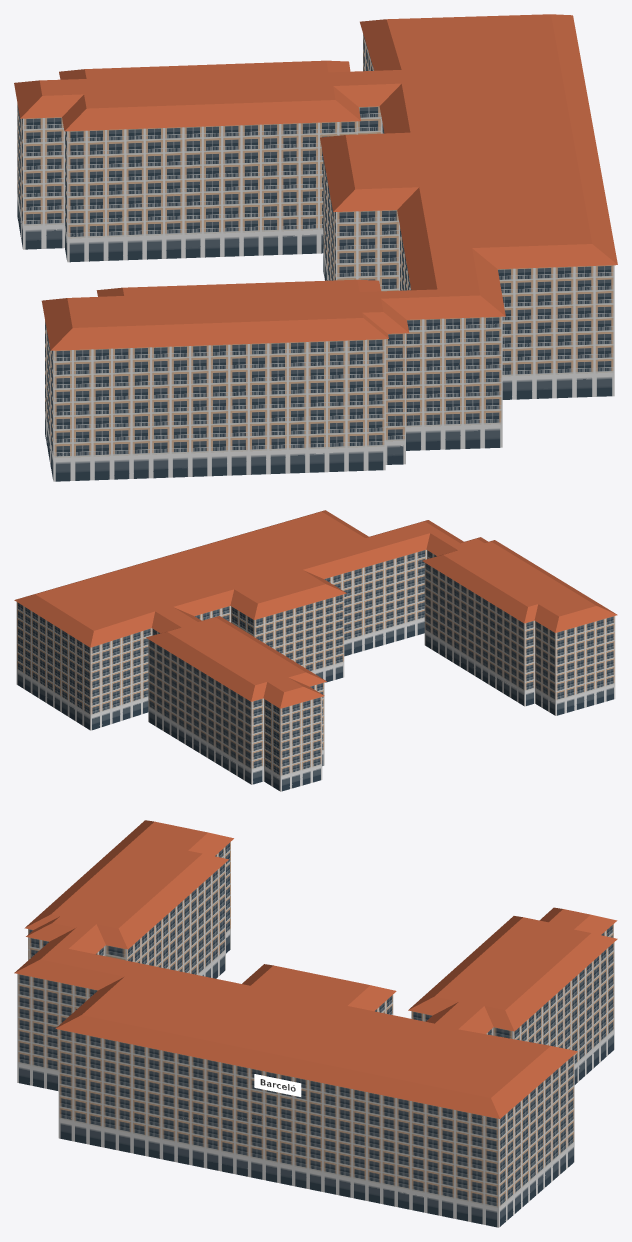
File: barcelo.glb
3 renders of one model, top to bottom at view 1: azimuth 30°, elevation 25°; view 2: azimuth 150°, elevation 25°; view 3: azimuth 270°, elevation 25°, orthographic. The views are drawn at different scales.
Parts seen in each view (by area): view 1: barcelo_lod0; view 2: barcelo_lod0; view 3: barcelo_lod0.
Boxes of the visible parts, <box> form: barcelo_lod0: <box>14,14,617,481</box>; barcelo_lod0: <box>14,510,617,791</box>; barcelo_lod0: <box>14,820,617,1227</box>.
Size of what is drawn, in the model's own units: 163 by 30.51 by 139.
5 materials, 3 textured.
